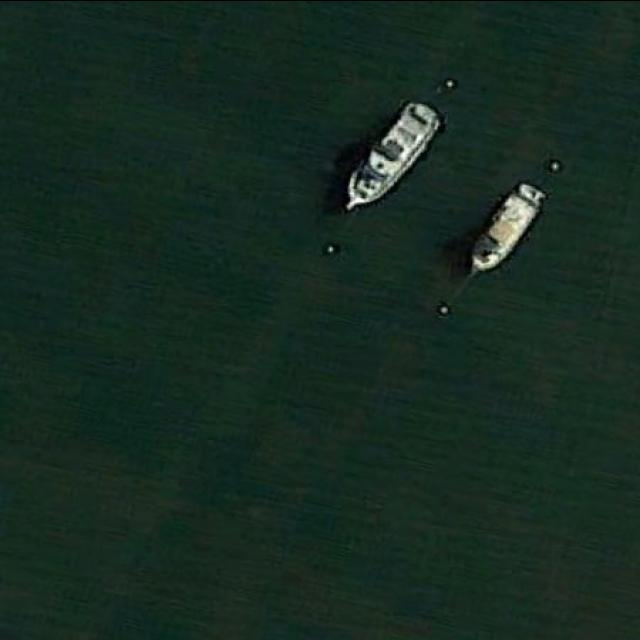ship: (342, 102, 439, 210), (464, 182, 544, 282)
